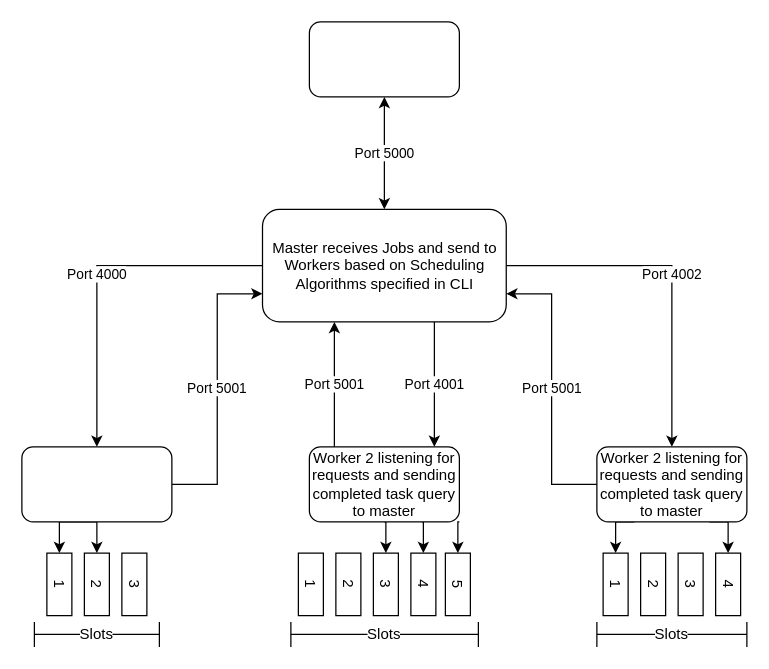
Image size: 769x669. Some labels were removed from this diagram. The centre of each missing label's shape, as x and y in pixels:
"Job Requests sent to Master" belongs at point (383, 59).
"Worker 1 listening for requests and sending completed task query to master" belongs at point (96, 484).
